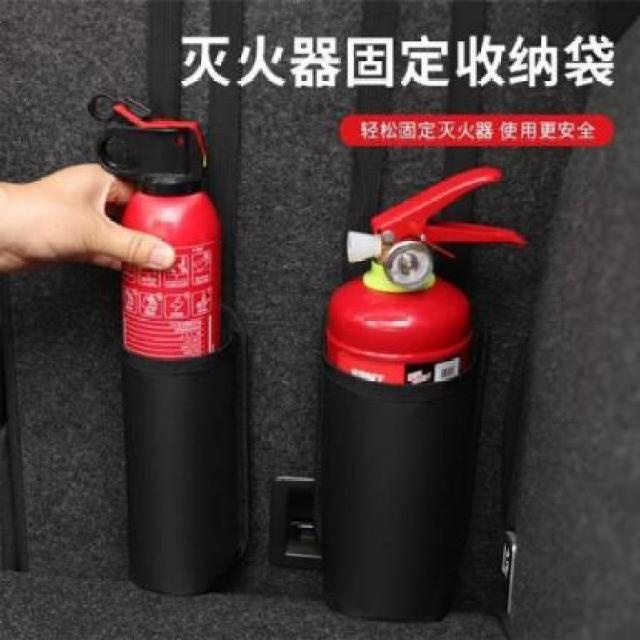fire extinguisher: (325, 167, 526, 382)
